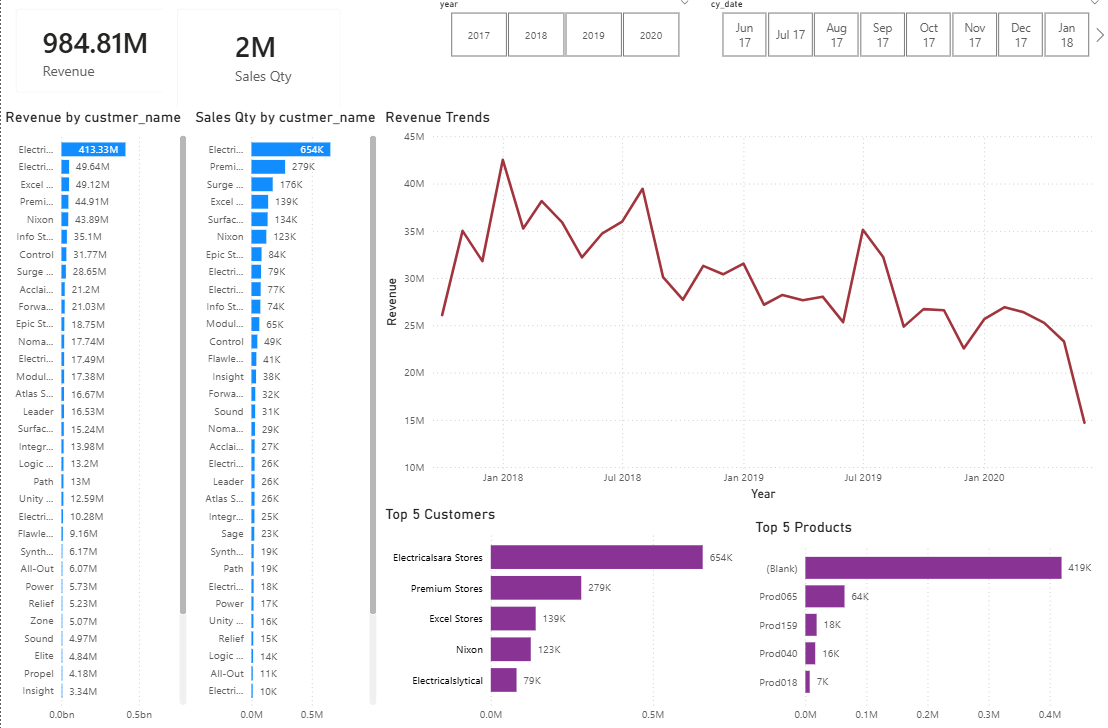

Layout of this report page (visuals, bound fields, positions):
{"tool":"powerbi","page":{"name":"Page 1","canvas":[1280,850],"ordinal":0},"visuals":[{"type":"cardVisual","fields":{"Data":["Base measures.Revenue"]},"box":[0,0,219.4,131.4],"z":0},{"type":"cardVisual","fields":{"Data":["Base measures.Sales Qty"]},"box":[186.2,0,223.8,157.4],"z":1000},{"type":"clusteredBarChart","fields":{"Y":["Base measures.Revenue"],"Category":["sales customers.custmer_name"]},"box":[0,131.4,219.4,718.9],"z":1001},{"type":"clusteredBarChart","fields":{"Y":["Base measures.Sales Qty"],"Category":["sales customers.custmer_name"]},"box":[219.4,131.4,219.4,718.9],"z":1002},{"type":"slicer","fields":{"Values":["sales date.year"]},"box":[493.7,0,313.3,79.4],"z":1003},{"type":"slicer","fields":{"Values":["sales date.cy_date"]},"box":[807,0,473.5,79.4],"z":1004},{"type":"clusteredBarChart","title":"Top 5 Customers","fields":{"Y":["Base measures.Sales Qty"],"Category":["sales customers.custmer_name"]},"box":[438.9,590.4,427.3,259.9],"z":1005},{"type":"clusteredBarChart","title":"Top 5 Products","fields":{"Y":["Base measures.Sales Qty"],"Category":["sales products.product_code"]},"box":[866.2,604.9,414.3,245.4],"z":1006},{"type":"lineChart","title":"Revenue Trends","fields":{"Y":["Base measures.Revenue"],"Category":["sales date.cy_date.Variation.Date Hierarchy.Year","sales date.cy_date.Variation.Date Hierarchy.Quarter","sales date.cy_date.Variation.Date Hierarchy.Month","sales date.cy_date.Variation.Date Hierarchy.Day"]},"box":[438.9,131.4,841.6,459.1],"z":1007}]}

Visuals, with their boxes in screenshot pixels (x1, y1, x2, y2), scaled from the page's 1280x850 canvas onto the 1108x728 screenshot:
cardVisual - Base measures.Revenue: Rect(0, 0, 190, 113)
cardVisual - Base measures.Sales Qty: Rect(161, 0, 355, 135)
clusteredBarChart - Base measures.Revenue x sales customers.custmer_name: Rect(0, 113, 190, 727)
clusteredBarChart - Base measures.Sales Qty x sales customers.custmer_name: Rect(190, 113, 380, 727)
slicer - sales date.year: Rect(427, 0, 699, 68)
slicer - sales date.cy_date: Rect(699, 0, 1107, 68)
"Top 5 Customers" clusteredBarChart: Rect(380, 506, 750, 727)
"Top 5 Products" clusteredBarChart: Rect(750, 518, 1107, 727)
"Revenue Trends" lineChart: Rect(380, 113, 1107, 506)
